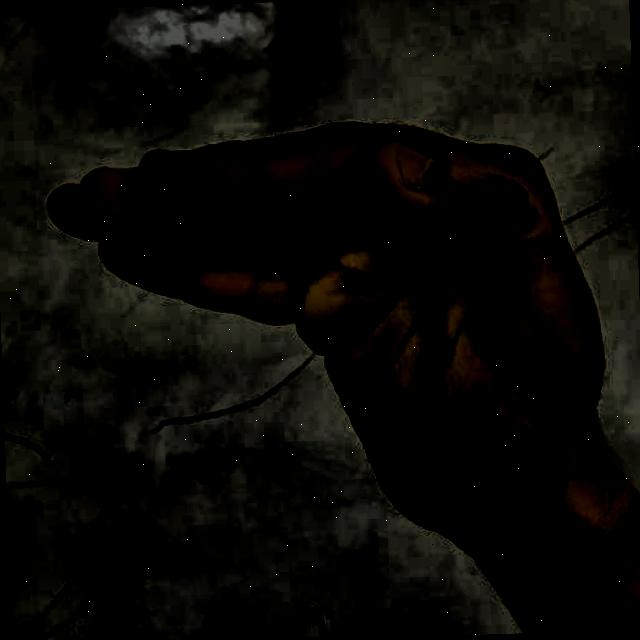Ga: (31, 45, 632, 596)
